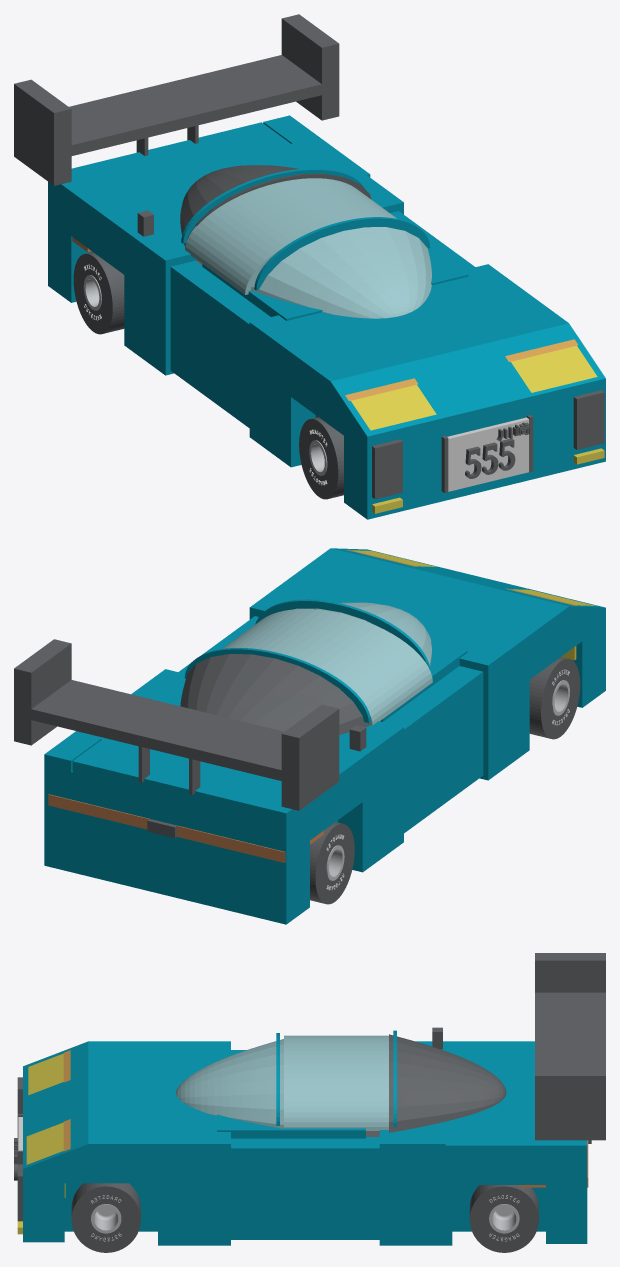
Rendered from misaki_car_blue.glb.
3 views of the same model, one above another, from view 1: azimuth 30°, elevation 25°; view 2: azimuth 150°, elevation 25°; view 3: azimuth 270°, elevation 25° (orthographic). The views are drawn at different scales.
Visible parts, largest first — view 1: Mesh_Mesh_head_geo.001_lambert2SG.001; view 2: Mesh_Mesh_head_geo.001_lambert2SG.001; view 3: Mesh_Mesh_head_geo.001_lambert2SG.001.
Part boxes in pixels (x1,y1,x2,y2): Mesh_Mesh_head_geo.001_lambert2SG.001: [14, 14, 605, 519]; Mesh_Mesh_head_geo.001_lambert2SG.001: [14, 548, 605, 924]; Mesh_Mesh_head_geo.001_lambert2SG.001: [14, 953, 605, 1252].
Bounding box in the file's own units: 82 × 58 × 167.
